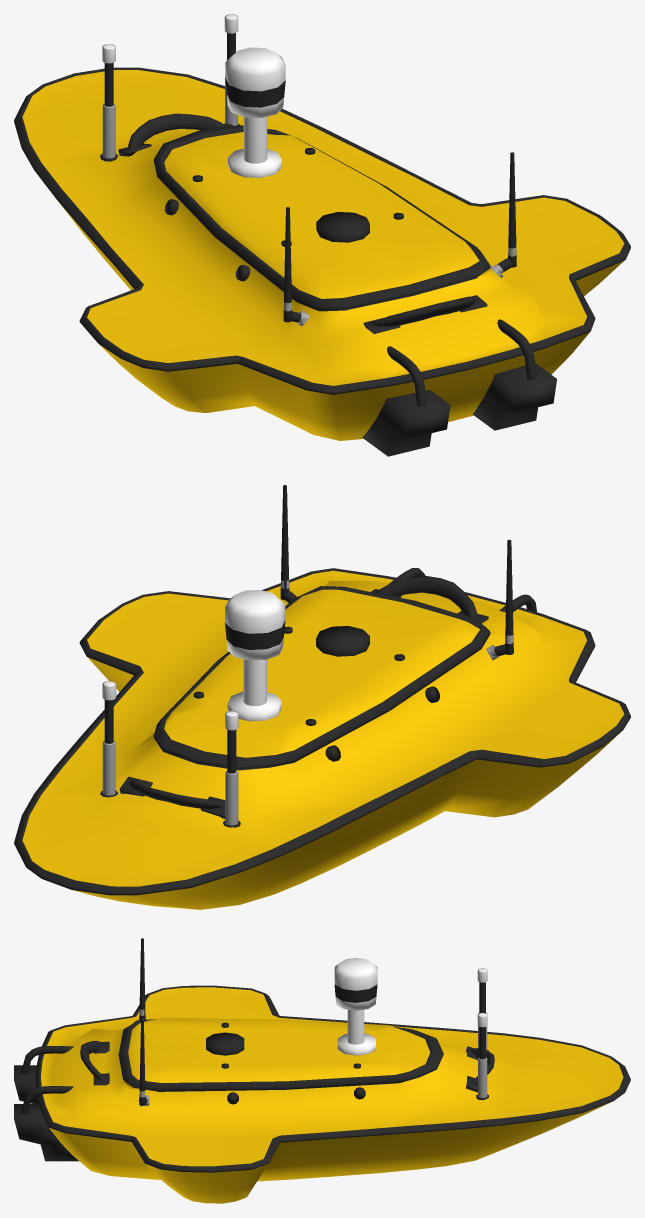
The model's file is shipM.glb.
The picture shows the model from 3 angles, top to bottom: view 1: azimuth 30°, elevation 25°; view 2: azimuth 150°, elevation 25°; view 3: azimuth 270°, elevation 25°; orthographic projection. The views are drawn at different scales.
Parts seen in each view (by area): view 1: polySurface162, polySurface161, polySurface172, polySurface173, polySurface166, polySurface159, polySurface169, polySurface160, polySurface189, polySurface191, polySurface194, polySurface174 (+2 smaller); view 2: polySurface162, polySurface161, polySurface169, polySurface159, polySurface160, polySurface189, polySurface166, polySurface191, polySurface194, polySurface163, polySurface185; view 3: polySurface162, polySurface161, polySurface173, polySurface159, polySurface172, polySurface160, polySurface189, polySurface169, polySurface175, polySurface174, polySurface194, polySurface191 (+1 smaller).
Boxes of the visible parts, x1,y1,x2,y2 form: polySurface162: (14,67,630,440); polySurface161: (225,47,285,117); polySurface172: (362,390,450,456); polySurface173: (473,363,556,430); polySurface166: (128,113,224,148); polySurface159: (316,212,369,242); polySurface169: (372,296,475,326); polySurface160: (243,117,267,163); polySurface189: (228,148,281,177); polySurface191: (283,207,292,322); polySurface194: (508,152,516,267); polySurface174: (387,346,426,406); polySurface162: (14,568,630,909); polySurface161: (225,590,285,660); polySurface169: (376,576,477,619); polySurface159: (316,626,369,656); polySurface160: (243,659,266,706); polySurface189: (227,691,281,721); polySurface166: (129,780,225,808); polySurface191: (505,539,513,654); polySurface194: (280,485,289,600); polySurface163: (225,771,238,825); polySurface185: (102,741,115,795); polySurface162: (35,985,630,1203); polySurface161: (334,958,377,1010); polySurface173: (14,1104,78,1161); polySurface159: (206,1032,244,1055); polySurface172: (14,1065,38,1103); polySurface160: (347,1009,364,1044); polySurface189: (337,1033,375,1055); polySurface169: (80,1040,106,1080); polySurface175: (21,1086,73,1113); polySurface174: (21,1046,73,1073); polySurface194: (139,1020,145,1105); polySurface191: (139,938,145,1019).
Size of the model in its own units: 63.97 by 29.29 by 90.62.
3 materials, 3 textured.
